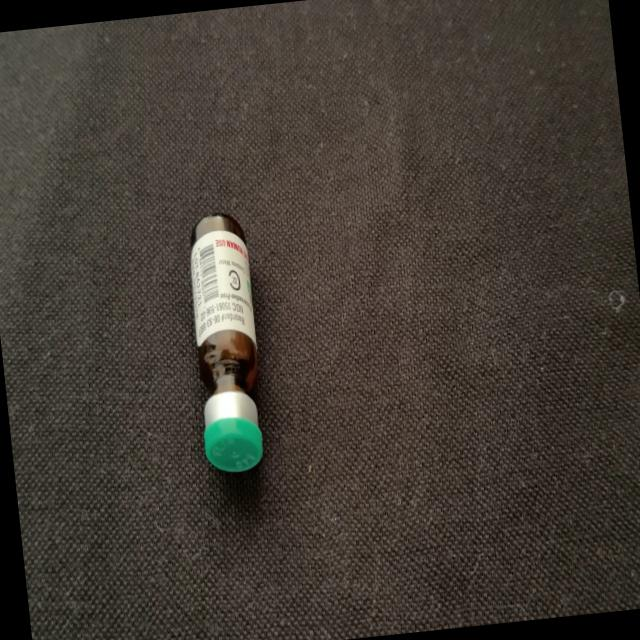midazolm: (182, 214, 270, 471)
